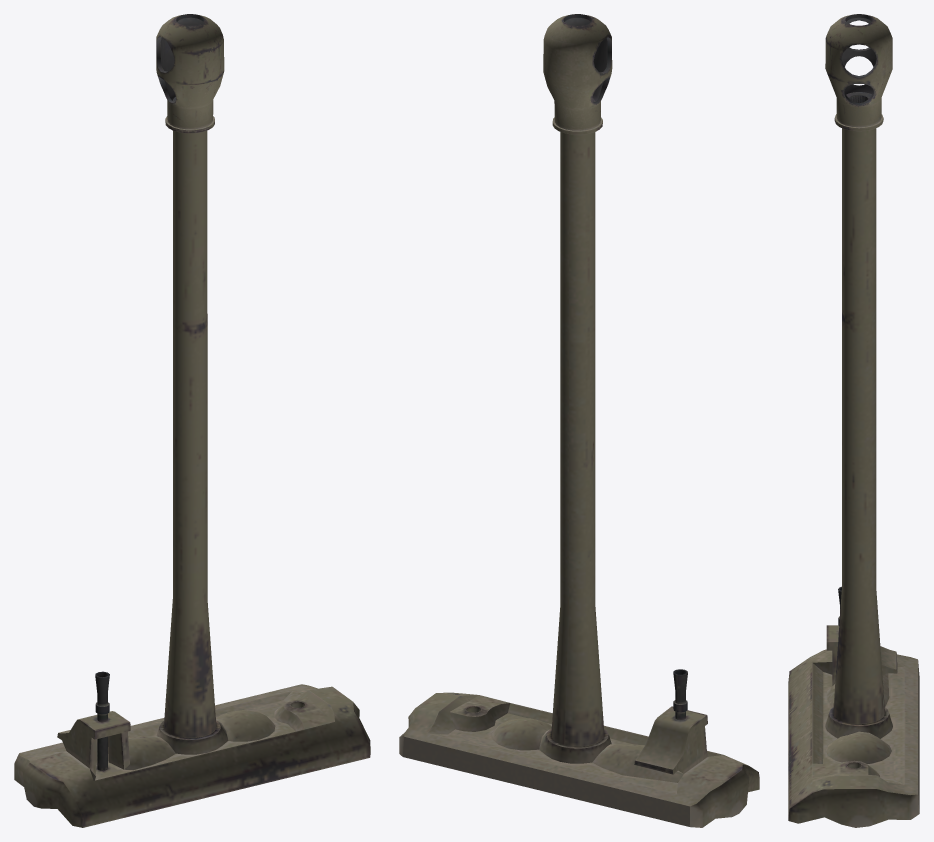
Rendered from Gun_01.glb.
3 views of the same model, side by side, from view 1: azimuth 30°, elevation 25°; view 2: azimuth 150°, elevation 25°; view 3: azimuth 270°, elevation 25° (orthographic). The views are drawn at different scales.
Parts seen in each view (by area): view 1: set_0_group_0; view 2: set_0_group_0; view 3: set_0_group_0.
Part boxes in pixels (x1,y1,x2,y2): set_0_group_0: [14, 14, 370, 827]; set_0_group_0: [399, 14, 759, 827]; set_0_group_0: [788, 14, 919, 827].
Bounding box in the file's own units: 1.41 × 3.19 × 0.5184.
Materials: 1 (1 with a texture image).
